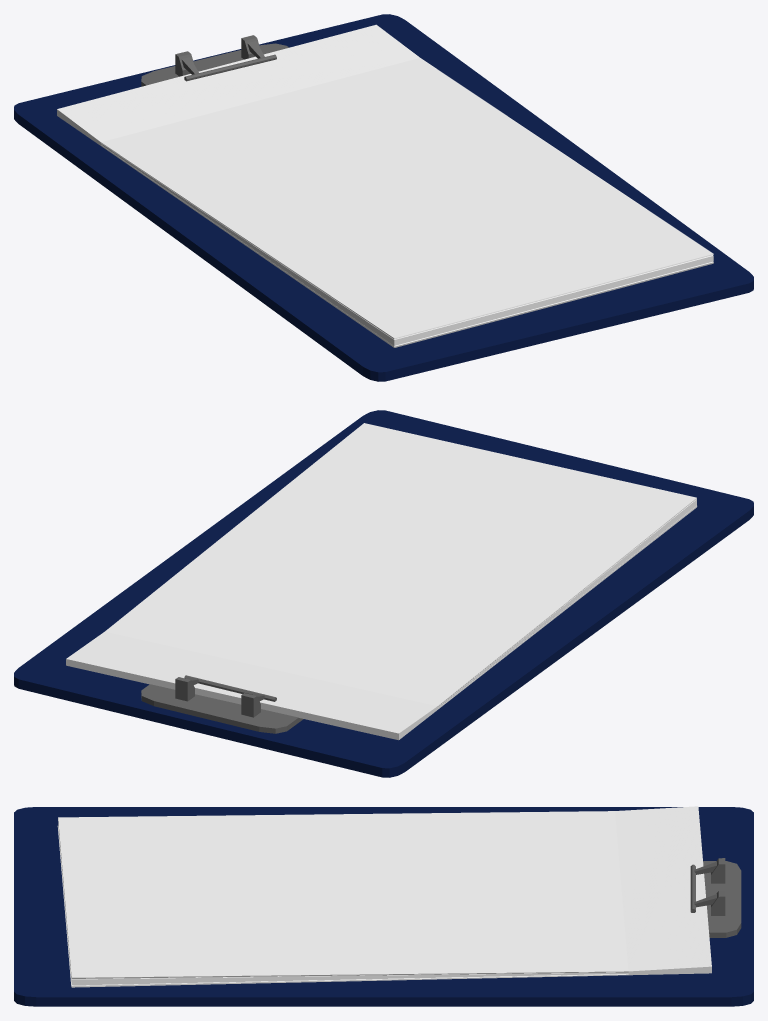
File: dosya.fbx
The picture shows the model from 3 angles, top to bottom: view 1: azimuth 30°, elevation 25°; view 2: azimuth 150°, elevation 25°; view 3: azimuth 270°, elevation 25°; orthographic projection.
Parts seen in each view (by area): view 1: Cube.001; view 2: Cube.001; view 3: Cube.001.
Part boxes in pixels (bbox=[...]): Cube.001: bbox=[14, 14, 753, 381]; Cube.001: bbox=[14, 410, 753, 777]; Cube.001: bbox=[14, 806, 753, 1006].
Bounding box in the file's own units: 604 × 50.72 × 992.
